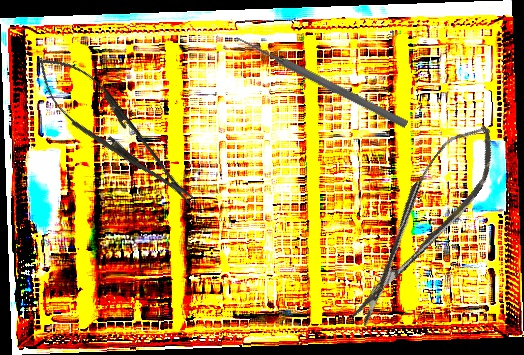Micro Scissor: (329, 112, 513, 335)
Needle Holder: (21, 41, 209, 221)
Pusher: (233, 32, 410, 130)
